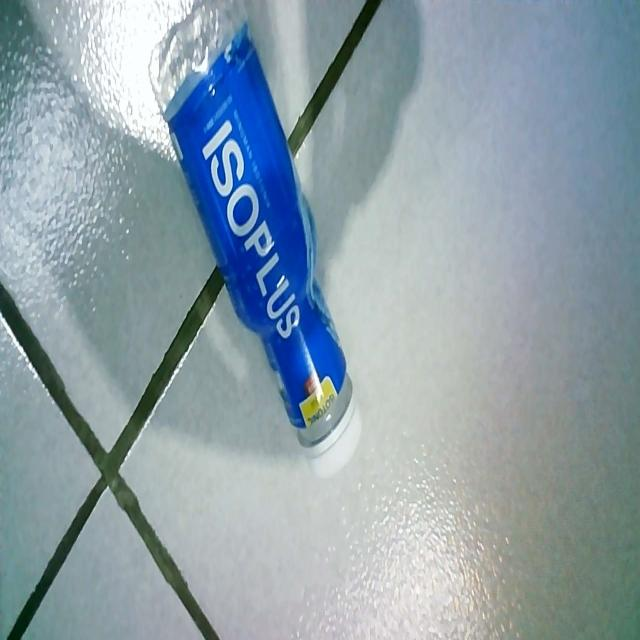botol: (142, 3, 367, 471)
